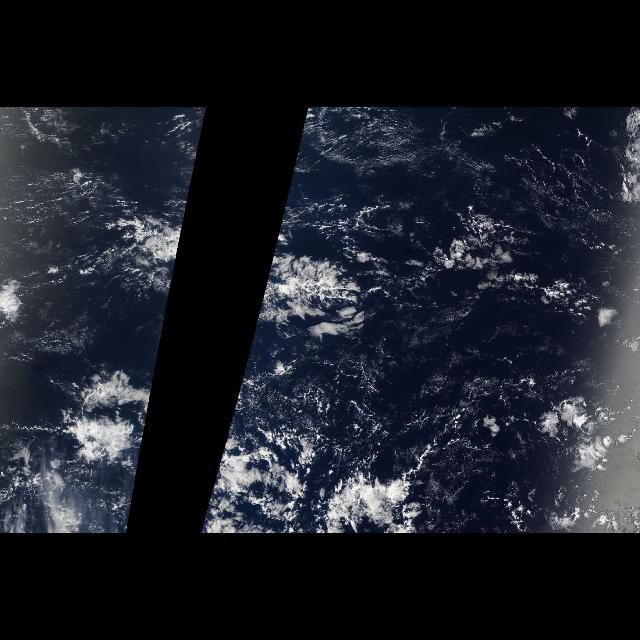Sugar: (257, 266, 547, 486), (293, 107, 619, 231), (0, 107, 152, 281)
